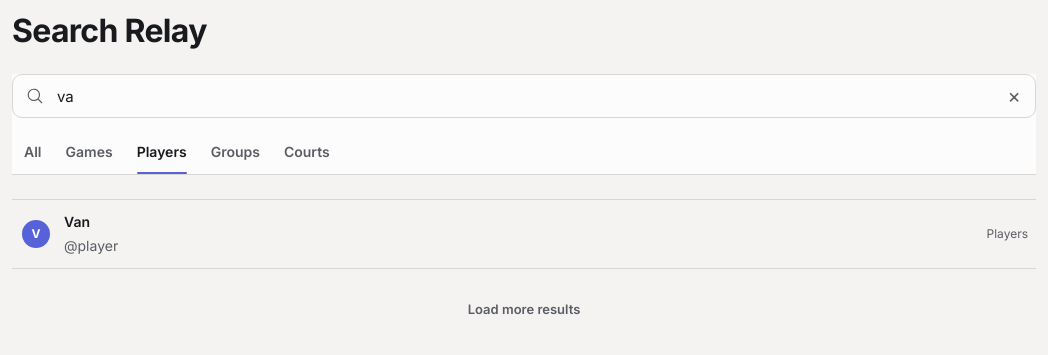
Scenario: GlobalSearch › loads another bounded page without replacing current results
Expected: the text "Van" is shown, [64,212,90,232]
Click the button "Load more results": x=524, y=309 [468,291,580,327]
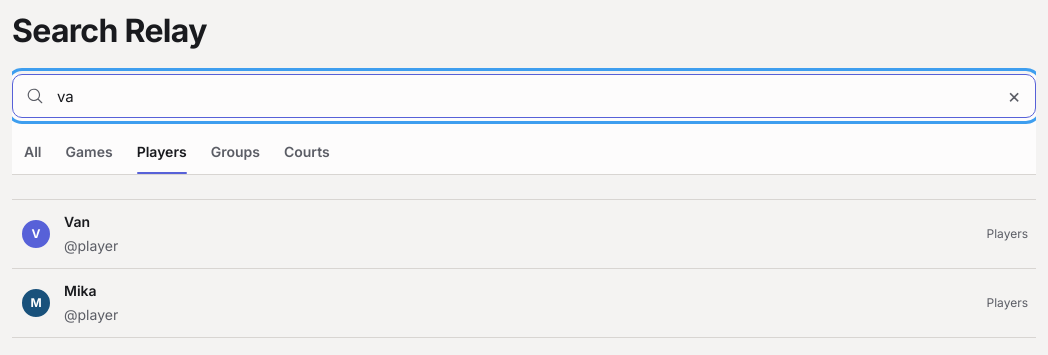
Expected: the text "Van" is shown, [64,212,90,232]
Expected: the text "Mika" is shown, [64,281,97,301]
